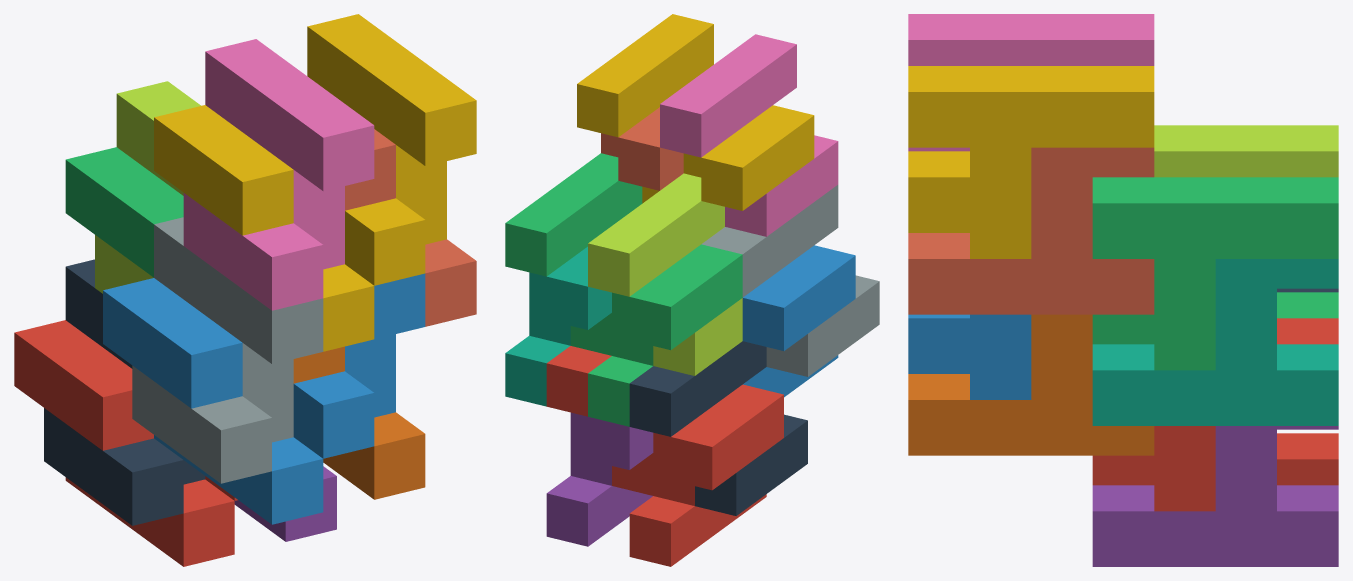
File: tiling.obj
3 renders of one model, left to right at view 1: azimuth 30°, elevation 25°; view 2: azimuth 150°, elevation 25°; view 3: azimuth 270°, elevation 25°, orthographic. The views are drawn at different scales.
Visible parts, largest first — view 1: copy_2_domain_4, copy_2_domain_8, copy_2_domain_2, copy_1_domain_2, copy_1_domain_1, copy_1_domain_4, copy_2_domain_1, copy_2_domain_6, copy_1_domain_3, copy_1_domain_6, copy_1_domain_8, copy_2_domain_3 (+1 smaller); view 2: copy_2_domain_4, copy_1_domain_1, copy_2_domain_3, copy_1_domain_3, copy_2_domain_1, copy_2_domain_7, copy_2_domain_8, copy_2_domain_2, copy_1_domain_2, copy_1_domain_5, copy_1_domain_4, copy_1_domain_7 (+2 smaller); view 3: copy_2_domain_8, copy_2_domain_7, copy_1_domain_7, copy_1_domain_8, copy_1_domain_5, copy_1_domain_6, copy_2_domain_4, copy_2_domain_3, copy_2_domain_6, copy_2_domain_5, copy_1_domain_1, copy_1_domain_3.
Part boxes in pixels (left/top/right/bottom): copy_2_domain_4: left=183, top=39, right=374, bottom=310; copy_2_domain_8: left=307, top=14, right=476, bottom=285; copy_2_domain_2: left=132, top=217, right=323, bottom=483; copy_1_domain_2: left=103, top=278, right=323, bottom=524; copy_1_domain_1: left=14, top=320, right=234, bottom=566; copy_1_domain_4: left=154, top=105, right=374, bottom=351; copy_2_domain_1: left=44, top=259, right=205, bottom=525; copy_2_domain_6: left=293, top=273, right=425, bottom=458; copy_1_domain_3: left=65, top=147, right=183, bottom=277; copy_1_domain_6: left=293, top=346, right=425, bottom=499; copy_1_domain_8: left=345, top=129, right=476, bottom=326; copy_2_domain_3: left=95, top=81, right=200, bottom=293; copy_2_domain_4: left=660, top=34, right=838, bottom=236; copy_1_domain_1: left=629, top=384, right=783, bottom=566; copy_2_domain_3: left=588, top=173, right=742, bottom=375; copy_1_domain_3: left=588, top=244, right=742, bottom=426; copy_2_domain_1: left=629, top=341, right=807, bottom=515; copy_2_domain_7: left=505, top=153, right=642, bottom=355; copy_2_domain_8: left=577, top=14, right=713, bottom=203; copy_2_domain_2: left=701, top=185, right=879, bottom=376; copy_1_domain_2: left=742, top=245, right=855, bottom=397; copy_1_domain_5: left=546, top=412, right=653, bottom=546; copy_1_domain_4: left=683, top=105, right=814, bottom=210; copy_1_domain_7: left=505, top=246, right=611, bottom=406; copy_2_domain_8: left=908, top=66, right=1154, bottom=258; copy_2_domain_7: left=1092, top=177, right=1338, bottom=370; copy_1_domain_7: left=1092, top=259, right=1338, bottom=425; copy_1_domain_8: left=908, top=147, right=1154, bottom=314; copy_1_domain_5: left=1092, top=426, right=1338, bottom=566; copy_1_domain_6: left=908, top=314, right=1154, bottom=455; copy_2_domain_4: left=908, top=14, right=1154, bottom=151; copy_2_domain_3: left=1154, top=125, right=1338, bottom=177; copy_2_domain_6: left=908, top=314, right=1031, bottom=399; copy_2_domain_5: left=1092, top=318, right=1338, bottom=511; copy_1_domain_1: left=1277, top=433, right=1338, bottom=485; copy_1_domain_3: left=1277, top=292, right=1338, bottom=318.
Bounding box in the file's own units: 5 × 9 × 7.
